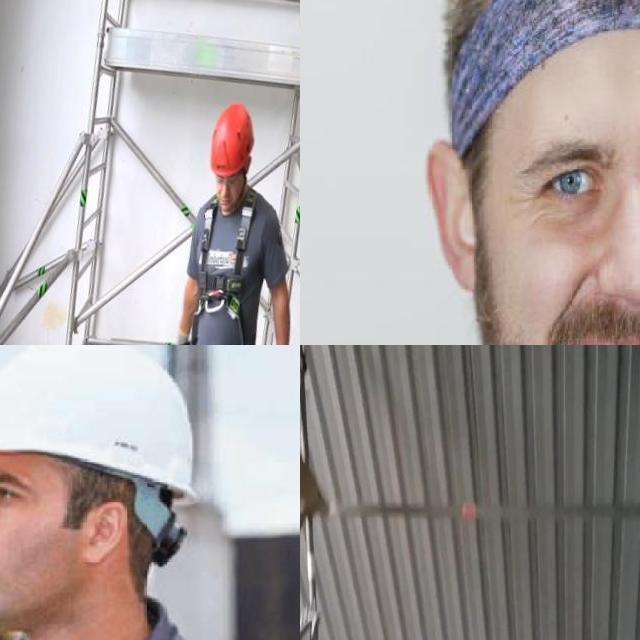Harness: (194, 189, 258, 345)
No_Ear-Protection: (80, 498, 126, 568)
No_Glasses: (0, 461, 41, 518)
face_nomask: (507, 130, 640, 345)
